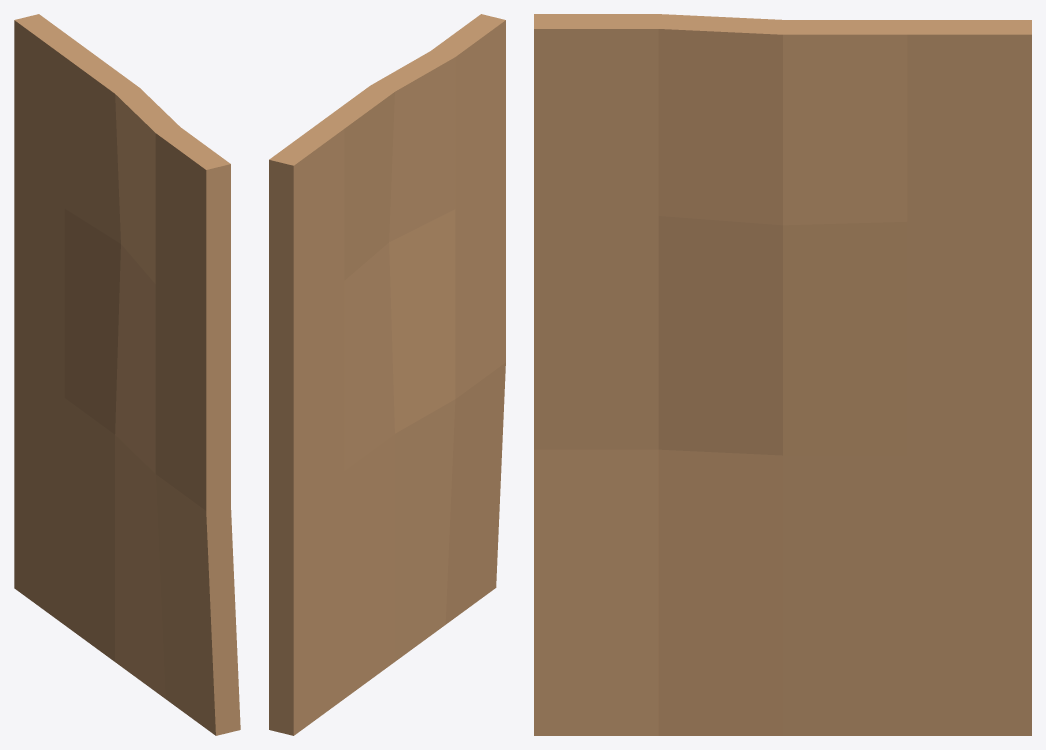
The model's file is MenuCliffsBackdropCorrection.fbx.
The picture shows the model from 3 angles, left to right: view 1: azimuth 30°, elevation 25°; view 2: azimuth 150°, elevation 25°; view 3: azimuth 270°, elevation 25°; orthographic projection. The views are drawn at different scales.
Parts seen in each view (by area): view 1: Cube; view 2: Cube; view 3: Cube.
Boxes of the visible parts, bbox=[...] form: Cube: bbox=[14, 14, 240, 735]; Cube: bbox=[269, 14, 505, 735]; Cube: bbox=[534, 14, 1031, 735].
Bounding box in the file's own units: 326 × 4394 × 2827.
